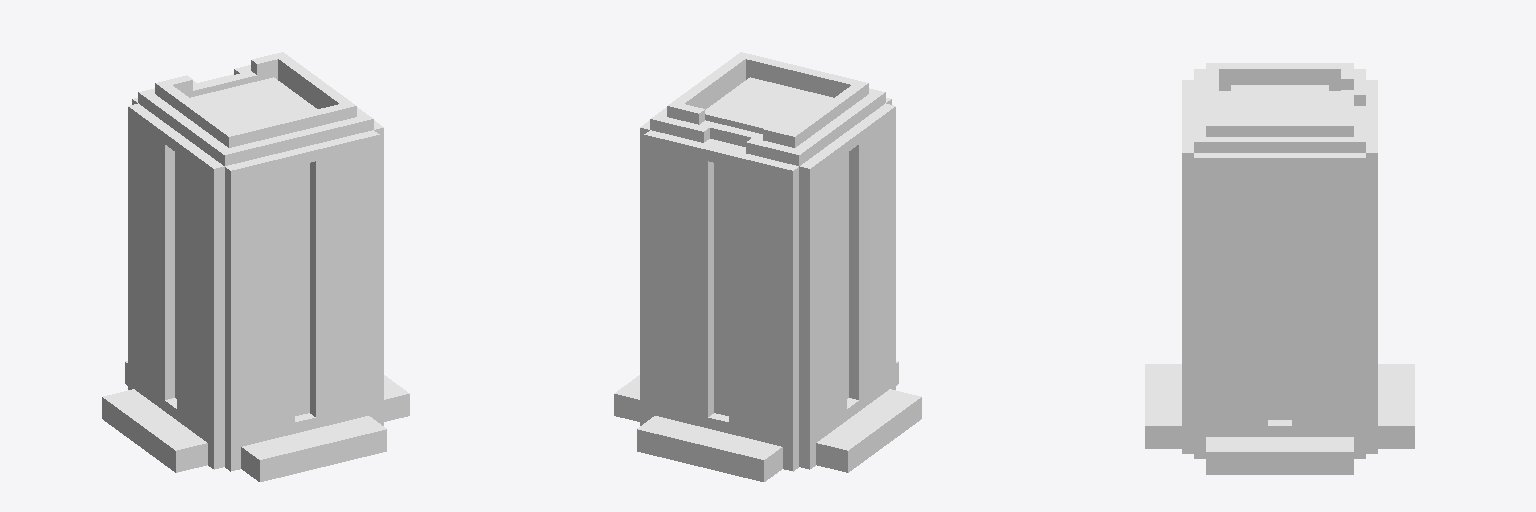
File: tower-1-2.obj
3 renders of one model, left to right at view 1: azimuth 30°, elevation 25°; view 2: azimuth 150°, elevation 25°; view 3: azimuth 270°, elevation 25°, orthographic.
Parts seen in each view (by area): view 1: object 1; view 2: object 1; view 3: object 1.
Boxes of the visible parts, <box> form: object 1: <box>102,52,409,481</box>; object 1: <box>614,52,921,481</box>; object 1: <box>1145,63,1414,474</box>.
Size of the model in its own units: 2.2 by 2.9 by 2.2.